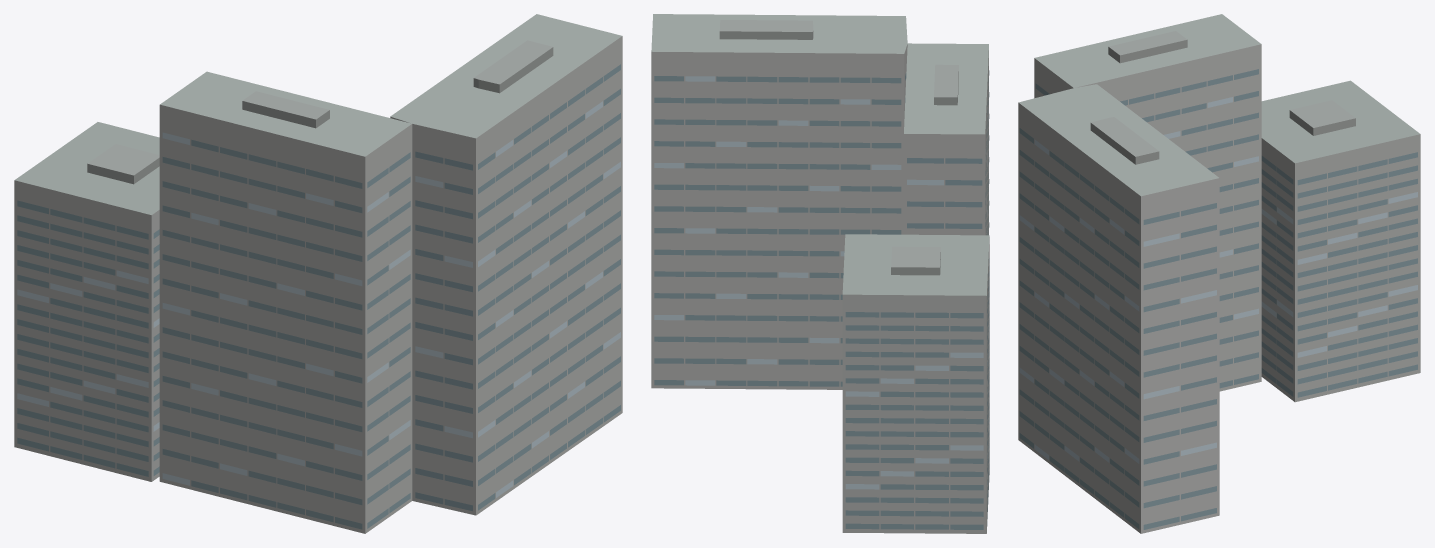
Rendered from apt-a13527003.glb.
The picture shows the model from 3 angles, left to right: view 1: azimuth 30°, elevation 25°; view 2: azimuth 150°, elevation 25°; view 3: azimuth 270°, elevation 25°; orthographic projection. The views are drawn at different scales.
Visible parts, largest first — view 1: apt-a13527003; view 2: apt-a13527003; view 3: apt-a13527003.
Part boxes in pixels (x1,y1,x2,y2): apt-a13527003: (14,14,622,533); apt-a13527003: (651,14,989,533); apt-a13527003: (1018,14,1420,533).
Bounding box in the file's own units: 140 × 105 × 111.
